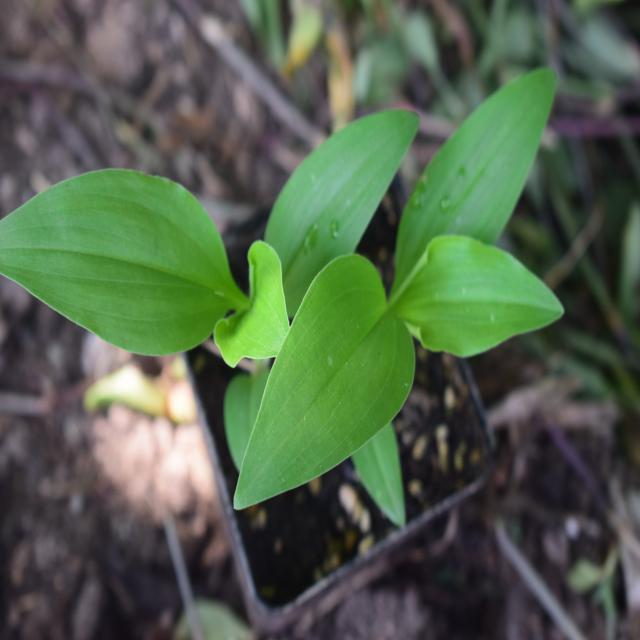Common Dayflower: (221, 51, 535, 505), (16, 172, 243, 366)
